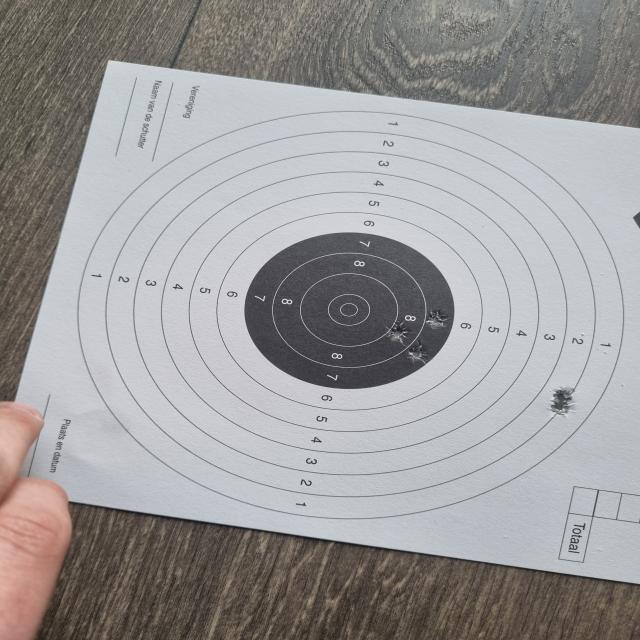2: (546, 402, 574, 415), (552, 385, 576, 400)
7: (406, 342, 428, 364), (426, 310, 450, 330)
8: (386, 321, 408, 344)
Target: (71, 109, 628, 522)
black_contour: (245, 232, 454, 388)
